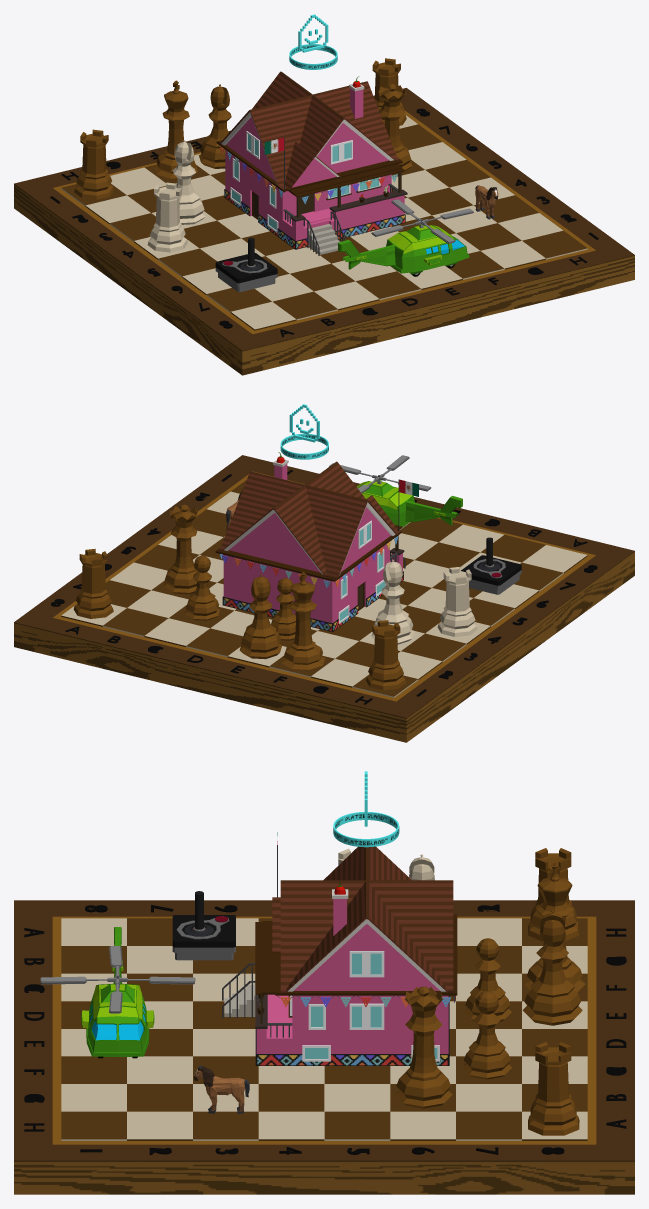
3 views of the same model, one above another, from view 1: azimuth 30°, elevation 25°; view 2: azimuth 150°, elevation 25°; view 3: azimuth 270°, elevation 25° (orthographic). The views are drawn at different scales.
Parts seen in each view (by area): view 1: Cube.002, Cube.1005, VEHICLES_HELICOPTER, OBJRANDOM_JOYSTICK, TYPE_PREMIUM, ANIMAL_CABALLO; view 2: Cube.002, Cube.1005, VEHICLES_HELICOPTER, OBJRANDOM_JOYSTICK, TYPE_PREMIUM; view 3: Cube.002, Cube.1005, VEHICLES_HELICOPTER, OBJRANDOM_JOYSTICK, TYPE_PREMIUM, ANIMAL_CABALLO.
Boxes of the visible parts, x1,y1,x2,y2 form: Cube.002: (14, 58, 634, 375); Cube.1005: (216, 71, 407, 255); VEHICLES_HELICOPTER: (338, 199, 473, 276); OBJRANDOM_JOYSTICK: (215, 237, 277, 292); TYPE_PREMIUM: (289, 14, 337, 69); ANIMAL_CABALLO: (475, 185, 498, 219); Cube.002: (14, 455, 634, 742); Cube.1005: (215, 452, 418, 632); VEHICLES_HELICOPTER: (329, 455, 462, 526); OBJRANDOM_JOYSTICK: (461, 537, 521, 594); TYPE_PREMIUM: (280, 404, 328, 459); Cube.002: (14, 848, 634, 1194); Cube.1005: (222, 832, 457, 1065); VEHICLES_HELICOPTER: (40, 927, 195, 1058); OBJRANDOM_JOYSTICK: (172, 891, 235, 960); TYPE_PREMIUM: (333, 771, 399, 847); ANIMAL_CABALLO: (194, 1065, 249, 1113).
Bounding box in the file's own units: 3981 × 2279 × 4012.
77 materials, 5 textured.
